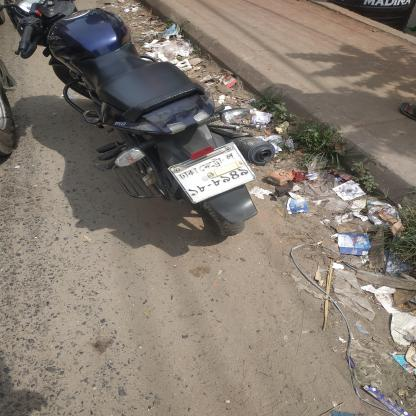license_plate: (158, 142, 264, 210)
